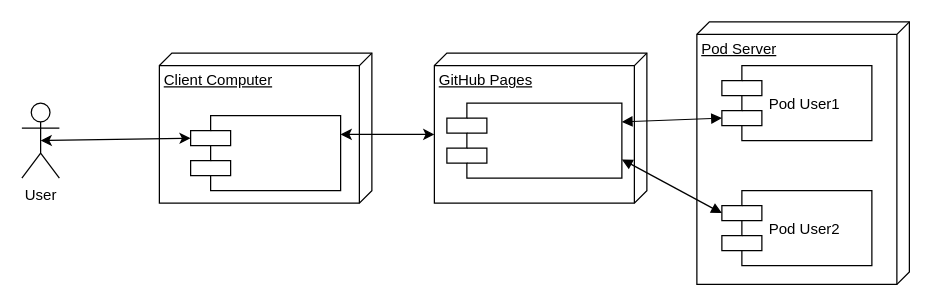
Some shapes in this 931 by 306 pixel diagram are drawn without their labels. The centre of each missing label's shape, as x and y in pixels:
Browser: (x=265, y=152)
DeChatApplication: (x=534, y=140)
